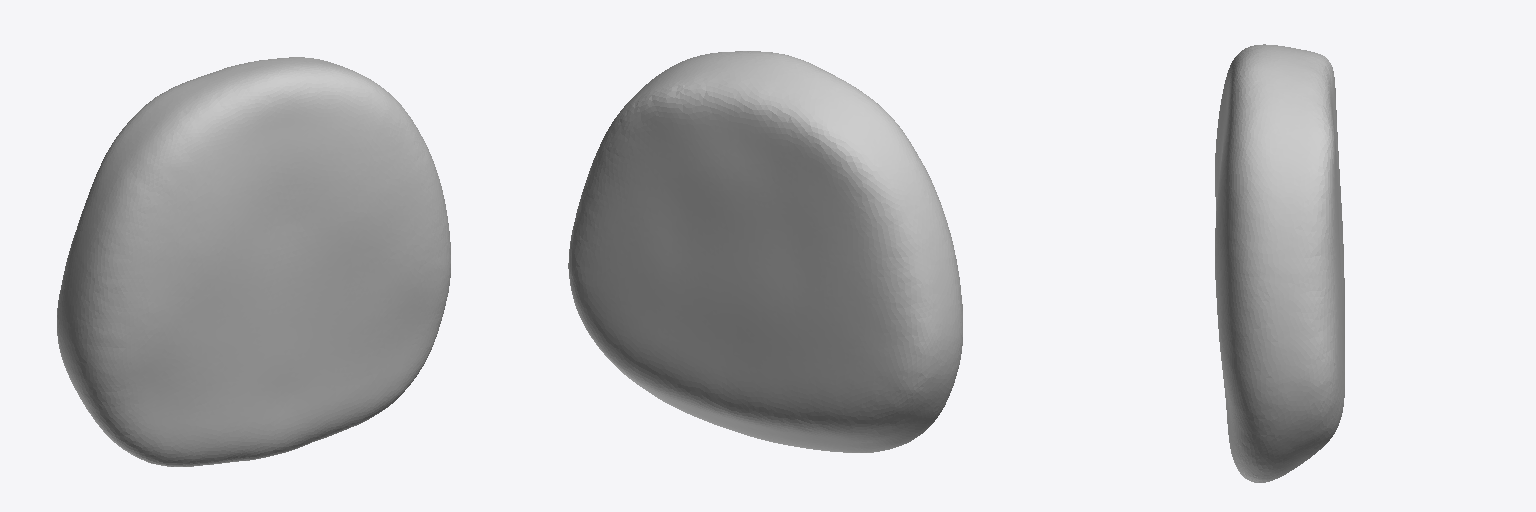
Rendered from back6.obj.
3 views of the same model, side by side, from view 1: azimuth 30°, elevation 25°; view 2: azimuth 150°, elevation 25°; view 3: azimuth 270°, elevation 25° (orthographic).
Visible parts, largest first — view 1: Group12609; view 2: Group12609; view 3: Group12609.
Part boxes in pixels (x1,y1,x2,y2): Group12609: (57, 57, 450, 466); Group12609: (568, 51, 962, 452); Group12609: (1215, 44, 1344, 482).
Size of the model in its own units: 0.2784 by 0.2724 by 0.0843.